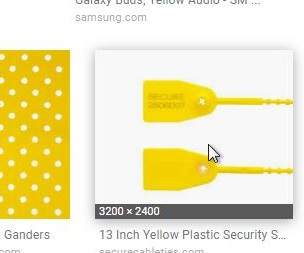cursor: (207, 143, 221, 164)
